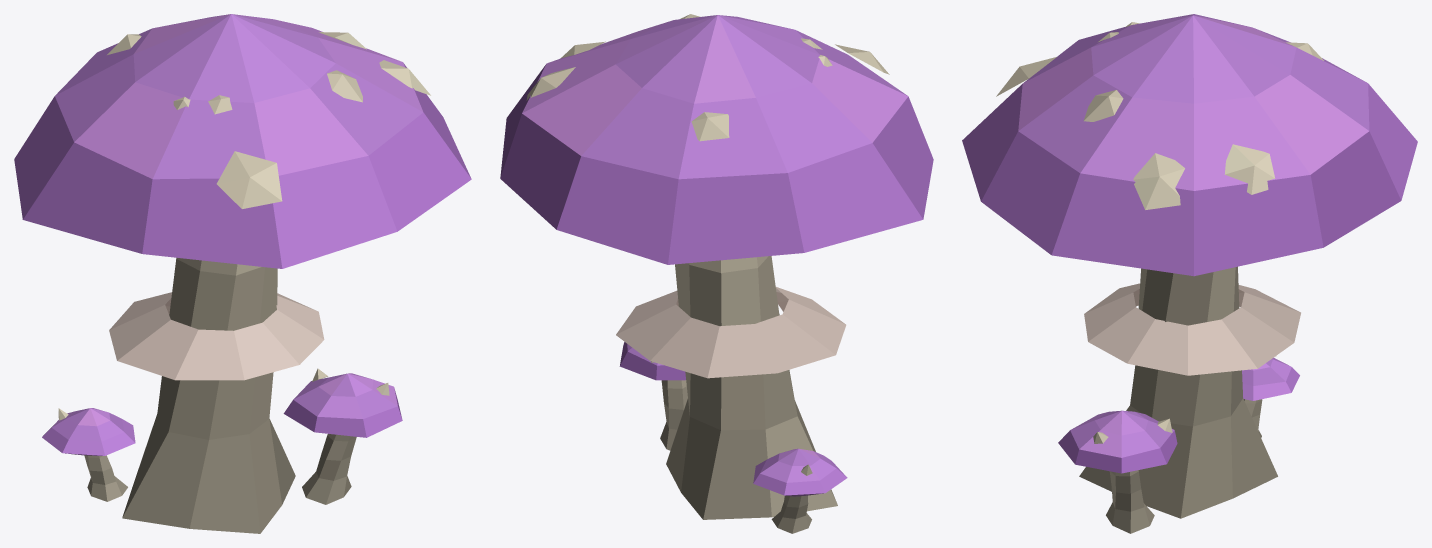
File: Mushroom_Tree.glb
3 views of the same model, side by side, from view 1: azimuth 30°, elevation 25°; view 2: azimuth 150°, elevation 25°; view 3: azimuth 270°, elevation 25° (orthographic).
Parts seen in each view (by area): view 1: Mushroom_Tree; view 2: Mushroom_Tree; view 3: Mushroom_Tree.
Boxes of the visible parts, x1=… form: Mushroom_Tree: x1=14, y1=14, x2=471, y2=533; Mushroom_Tree: x1=500, y1=14, x2=933, y2=533; Mushroom_Tree: x1=962, y1=14, x2=1417, y2=533.
Size of the model in its own units: 4.38 by 4.7 by 4.09.
